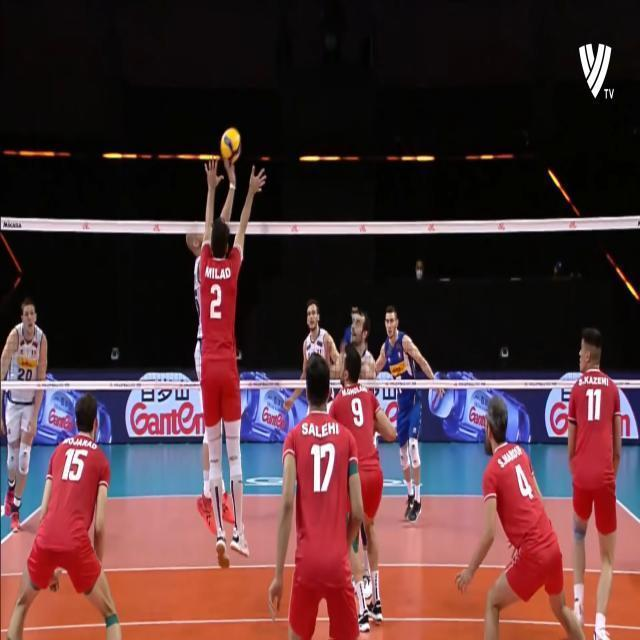volleyball: (219, 128, 242, 166)
